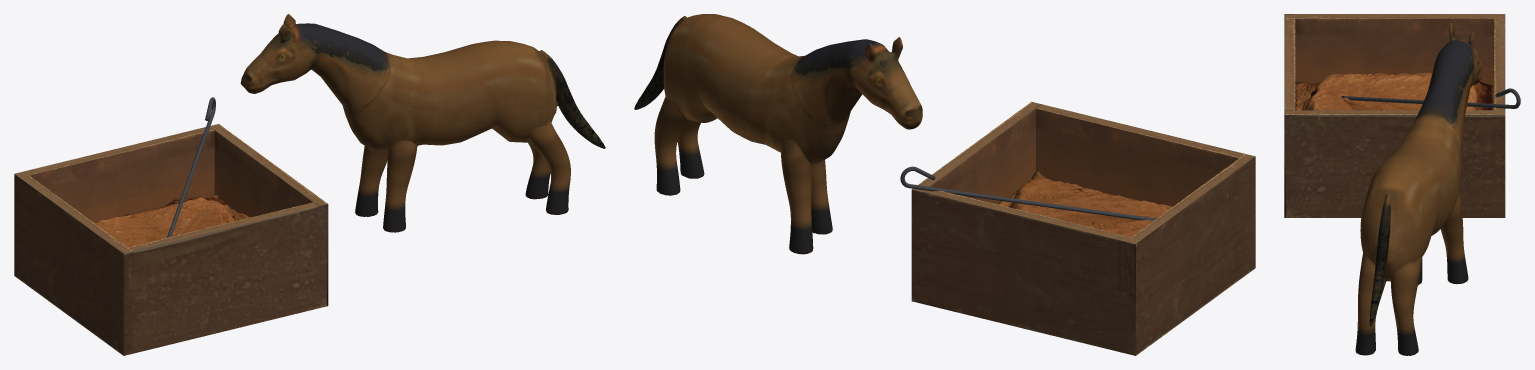
The model's file is caixa_09_02_compactado_com_cavalo.glb.
3 views of the same model, side by side, from view 1: azimuth 30°, elevation 25°; view 2: azimuth 150°, elevation 25°; view 3: azimuth 270°, elevation 25° (orthographic). The views are drawn at different scales.
Parts seen in each view (by area): view 1: Cavalo, Parede_Frente_comp, Parede_Esq_comp, Parede_Tras_comp, Parede_Dir_comp, Solo_Compactado_Topo, Haste_comp; view 2: Cavalo, Parede_Tras_comp, Parede_Esq_comp, Parede_Frente_comp, Parede_Dir_comp, Solo_Compactado_Topo, Haste_comp; view 3: Cavalo, Parede_Dir_comp, Parede_Esq_comp, Solo_Compactado_Topo, Parede_Frente_comp, Parede_Tras_comp, Haste_comp.
Boxes of the visible parts, <box> form: Cavalo: <box>240,14,605,232</box>; Parede_Frente_comp: <box>128,202,318,353</box>; Parede_Esq_comp: <box>14,171,133,355</box>; Parede_Tras_comp: <box>24,127,214,222</box>; Parede_Dir_comp: <box>210,124,328,308</box>; Solo_Compactado_Topo: <box>94,194,250,247</box>; Haste_comp: <box>167,97,215,237</box>; Cavalo: <box>634,14,922,254</box>; Parede_Tras_comp: <box>922,190,1130,353</box>; Parede_Esq_comp: <box>1125,154,1255,355</box>; Parede_Frente_comp: <box>1036,104,1244,206</box>; Parede_Dir_comp: <box>911,101,1041,303</box>; Solo_Compactado_Topo: <box>997,171,1171,236</box>; Haste_comp: <box>900,166,1156,220</box>; Cavalo: <box>1355,22,1482,355</box>; Parede_Dir_comp: <box>1284,110,1505,217</box>; Parede_Esq_comp: <box>1284,14,1505,109</box>; Solo_Compactado_Topo: <box>1295,72,1493,110</box>; Parede_Frente_comp: <box>1284,18,1295,110</box>; Parede_Tras_comp: <box>1494,18,1505,110</box>; Haste_comp: <box>1341,88,1520,108</box>.
Bounding box in the file's own units: 0.7692 × 0.2972 × 0.2973.
Materials: 5 (4 with a texture image).
